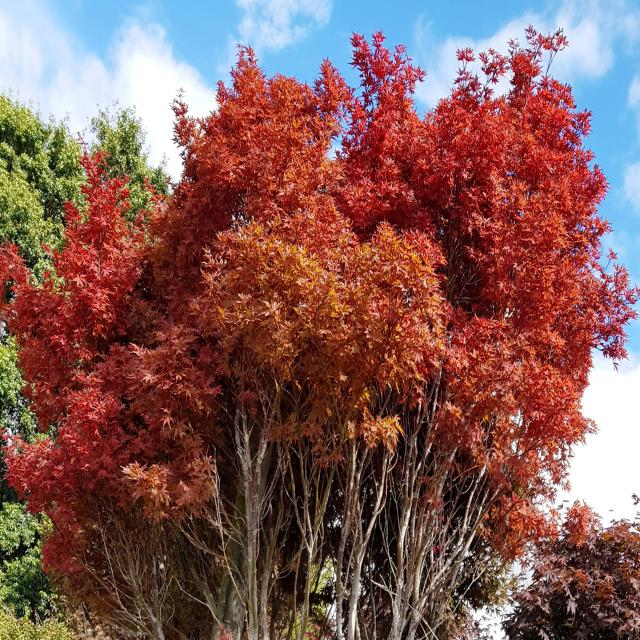Skeeters Broom: (3, 28, 639, 636)
